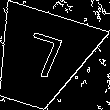L_S: (14, 31, 68, 88)
